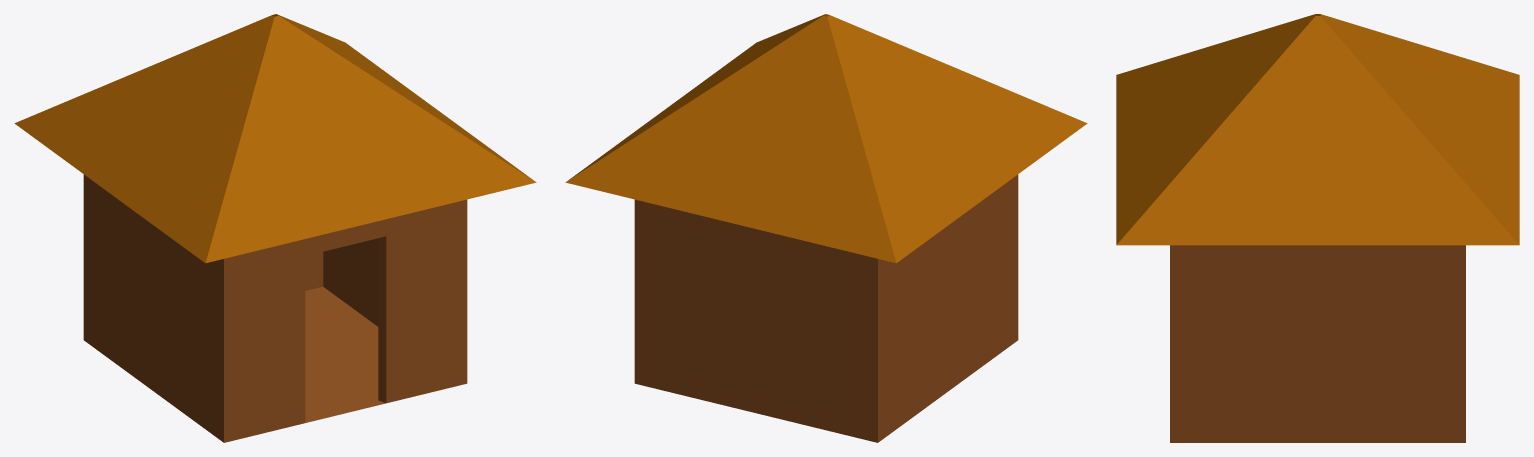
The model's file is casa_isla.glb.
3 renders of one model, left to right at view 1: azimuth 30°, elevation 25°; view 2: azimuth 150°, elevation 25°; view 3: azimuth 270°, elevation 25°, orthographic. The views are drawn at different scales.
Visible parts, largest first — view 1: Tecgo, Plane; view 2: Tecgo, Plane; view 3: Tecgo, Plane.
Part boxes in pixels (x1,y1,x2,y2): Tecgo: [14, 14, 536, 263]; Plane: [83, 174, 467, 442]; Tecgo: [565, 14, 1087, 263]; Plane: [634, 174, 1018, 442]; Tecgo: [1116, 14, 1519, 245]; Plane: [1170, 245, 1465, 442].
Size of the model in its own units: 6.16 by 6.16 by 6.16.
